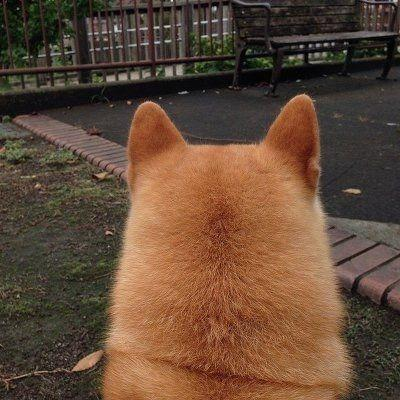adult_dog: (106, 94, 355, 400)
